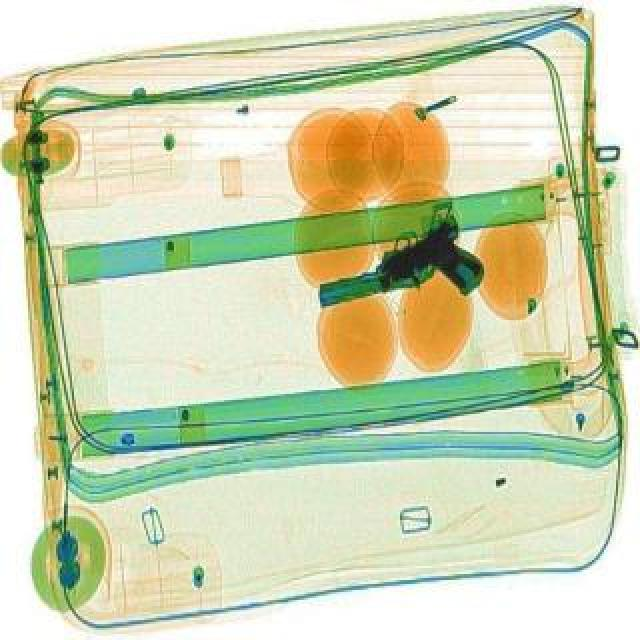gun: (302, 204, 476, 316), (364, 214, 498, 330)
